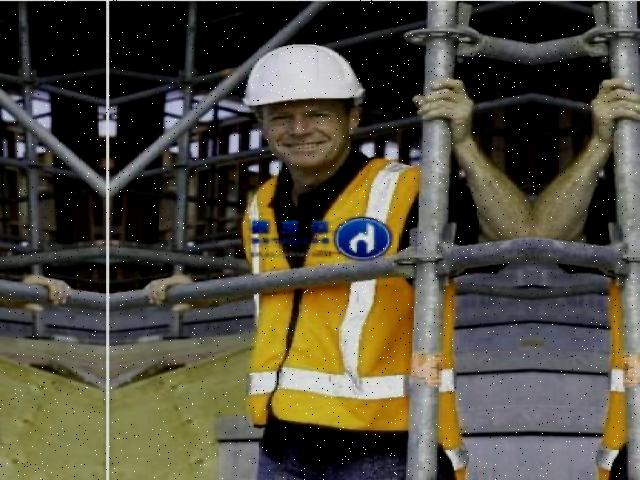Helmet: (236, 38, 375, 117)
